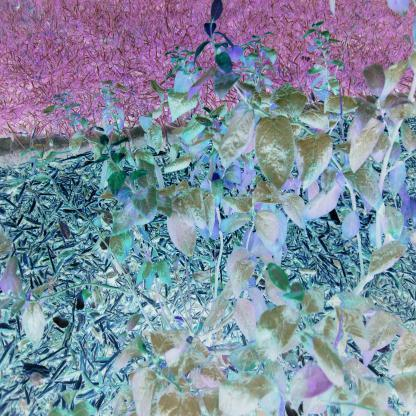Blueberry leaf: (250, 112, 296, 199), (164, 188, 204, 272), (349, 94, 384, 180), (206, 369, 262, 415), (338, 167, 388, 217), (113, 179, 164, 219), (144, 318, 184, 362), (132, 366, 166, 416), (217, 250, 256, 290), (230, 296, 259, 346)
